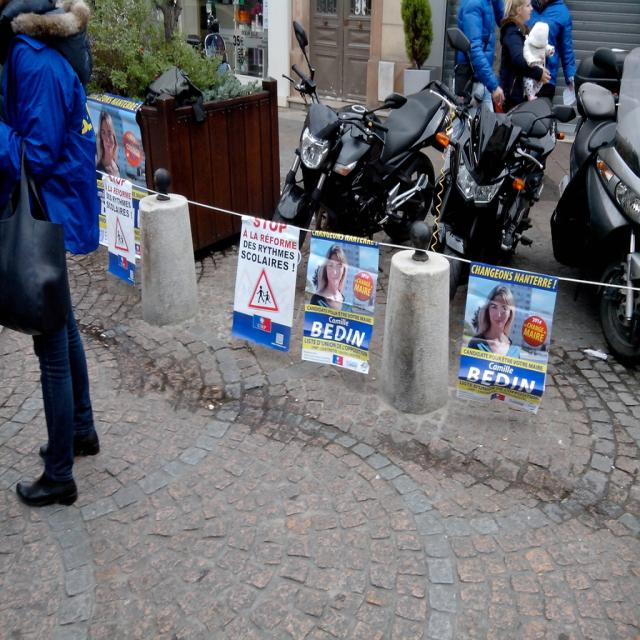Motorbikes: (263, 40, 434, 228), (419, 72, 556, 286), (552, 50, 640, 348)
Pedestrians: (1, 1, 101, 509), (499, 1, 549, 103)
